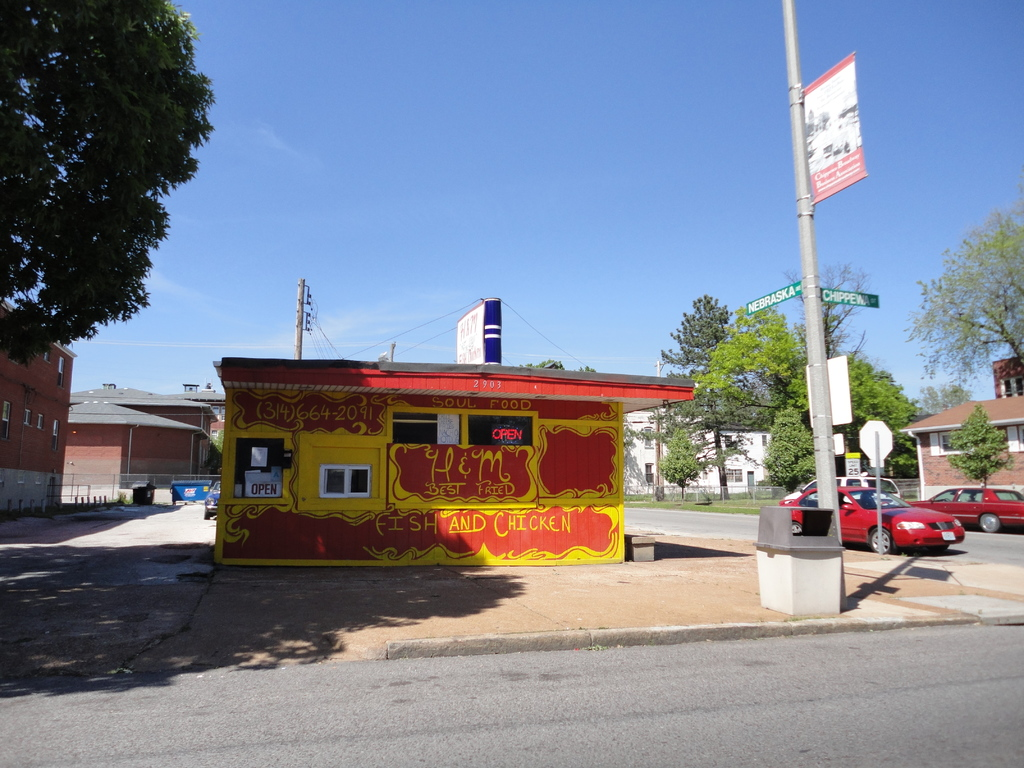Car: (780, 483, 966, 558), (903, 482, 1023, 534)
